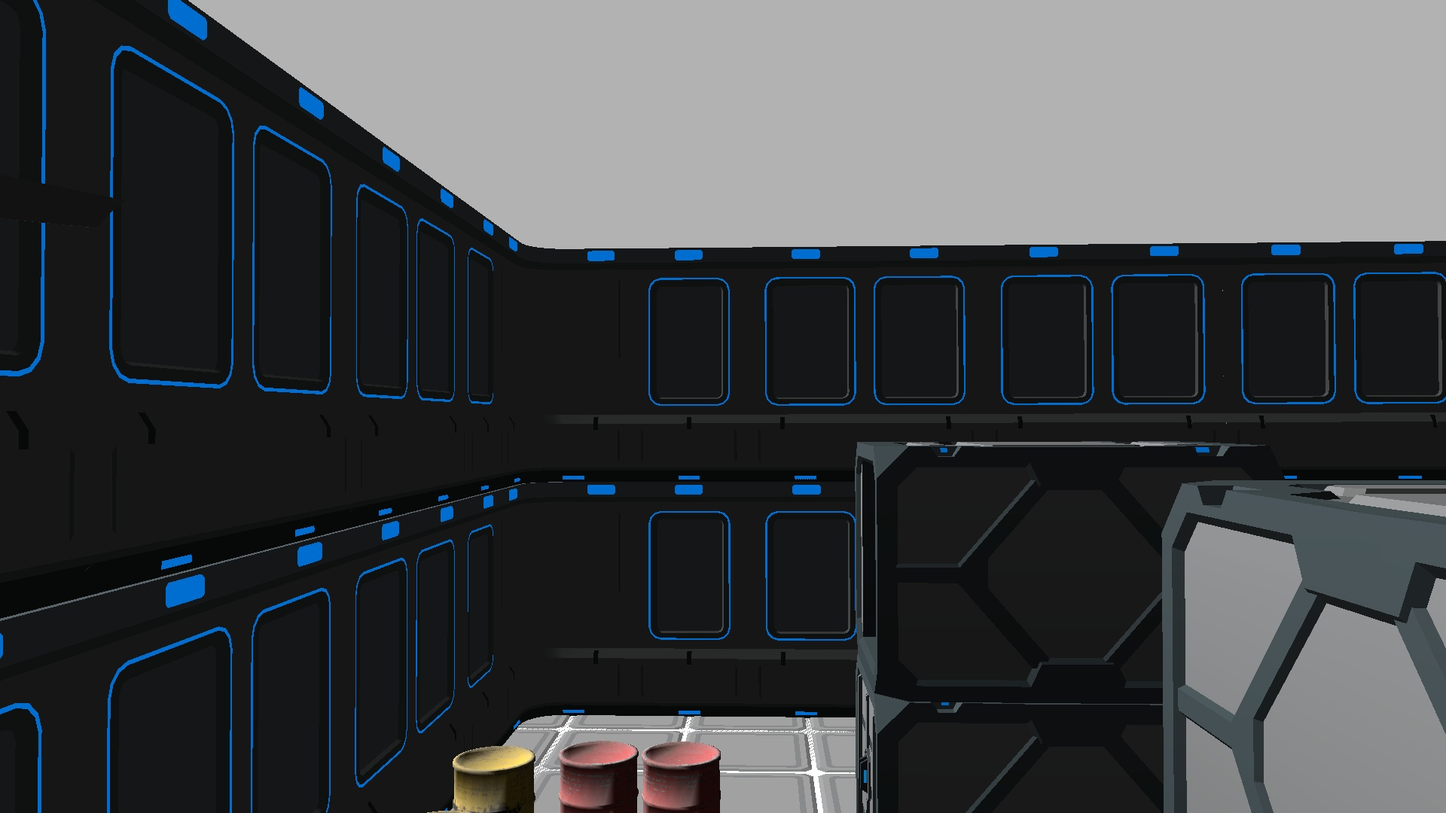toxic barrel: (558, 740, 639, 813), (452, 746, 536, 813), (642, 742, 721, 813)
